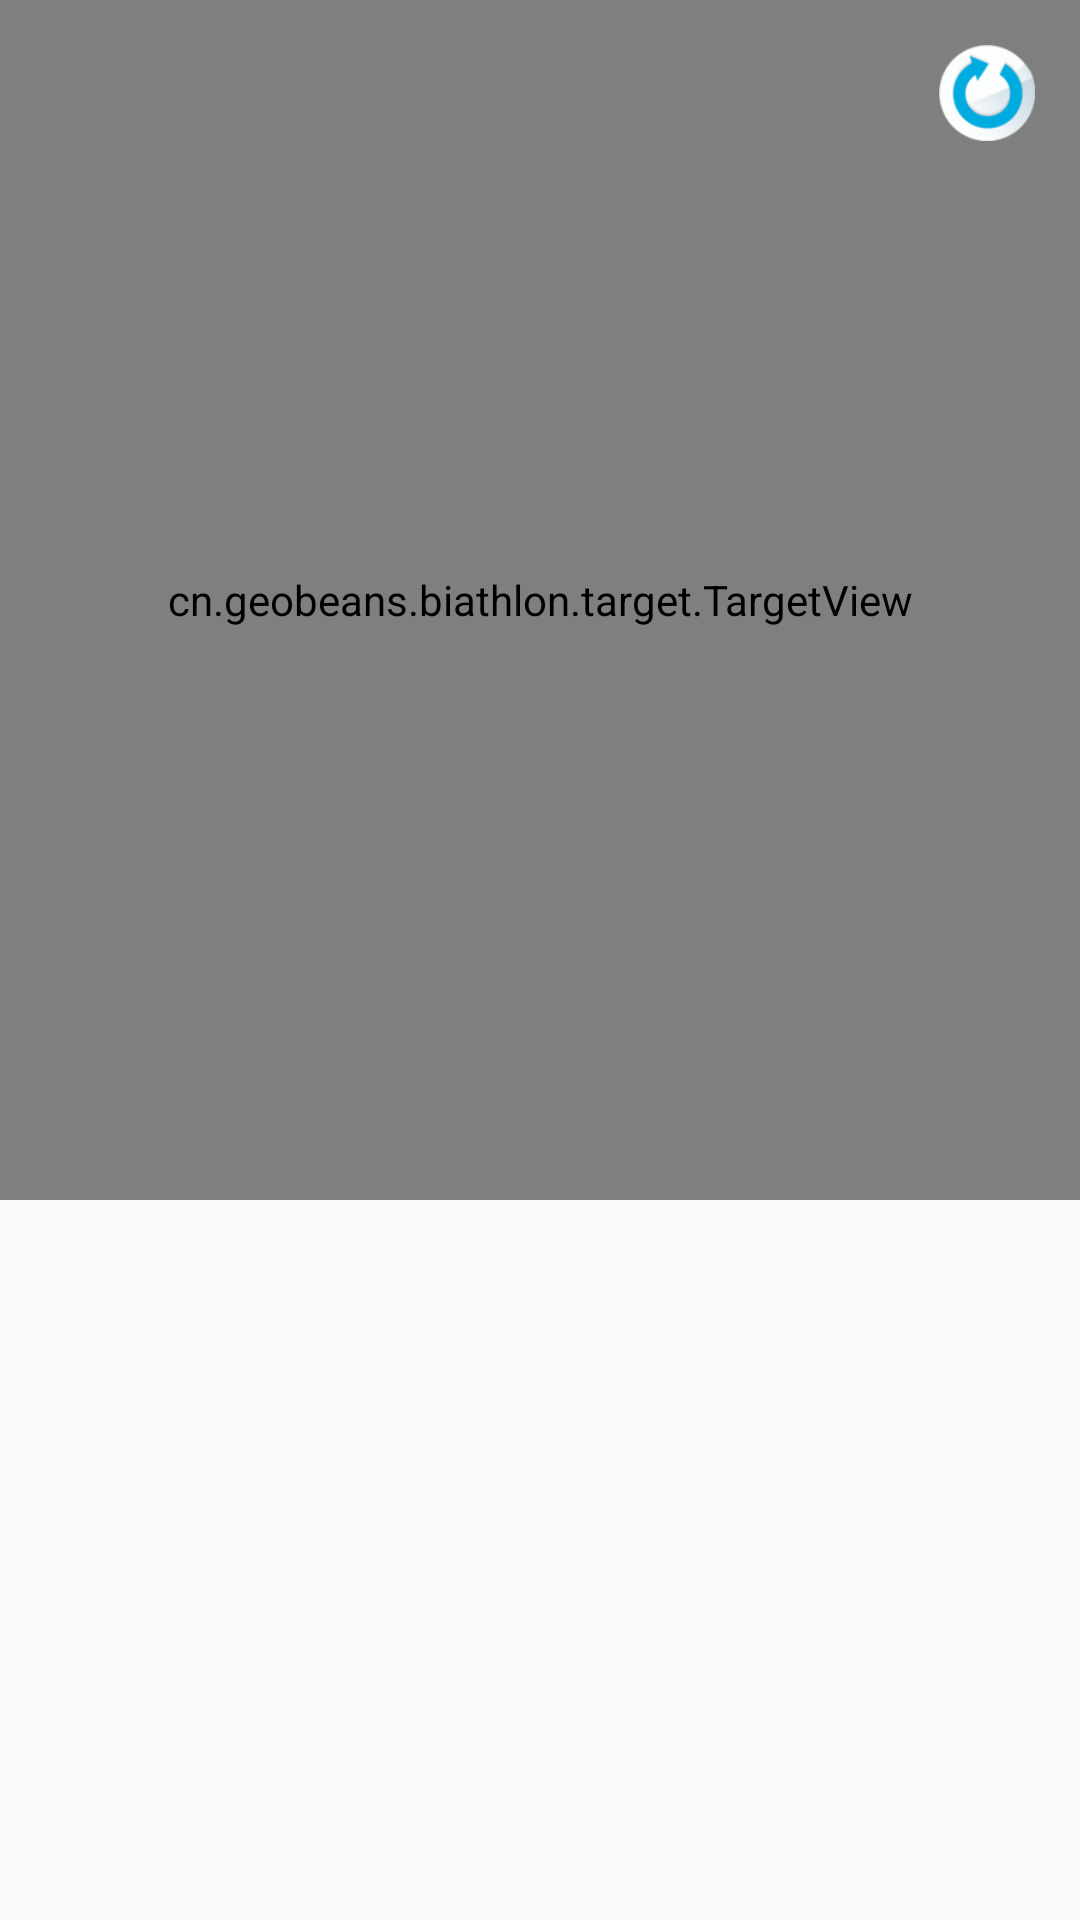

Icons on this 1080 x 1920 Android screen, each with its box as (x1, y1, x2, y2):
restore: (939, 45, 1035, 141)
